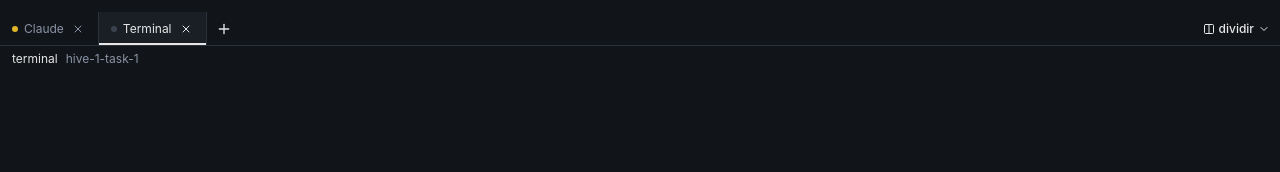
it: the shown tab reads on task with a foreground line at its foot, each tab has its status dot, and each pane shows its header (#536)
Expected: the element showing "terminal hive-1-task-1" is shown, [12,51,139,66]
Click the tab "Claude" at (38, 28), box [12,20,64,36]
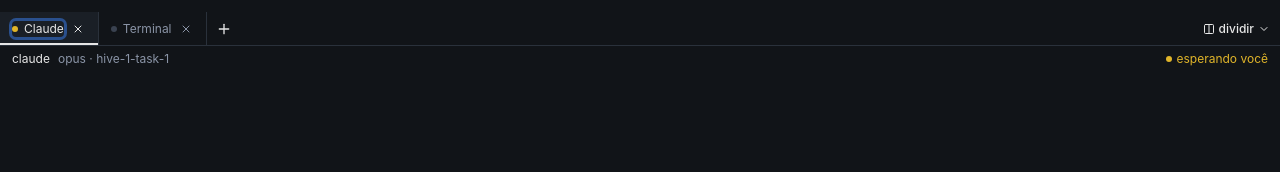
Expected: the text "opus · hive-1-task-1" is shown, [58,51,169,67]
Expected: the text "esperando você" is shown, [1166,51,1268,67]
